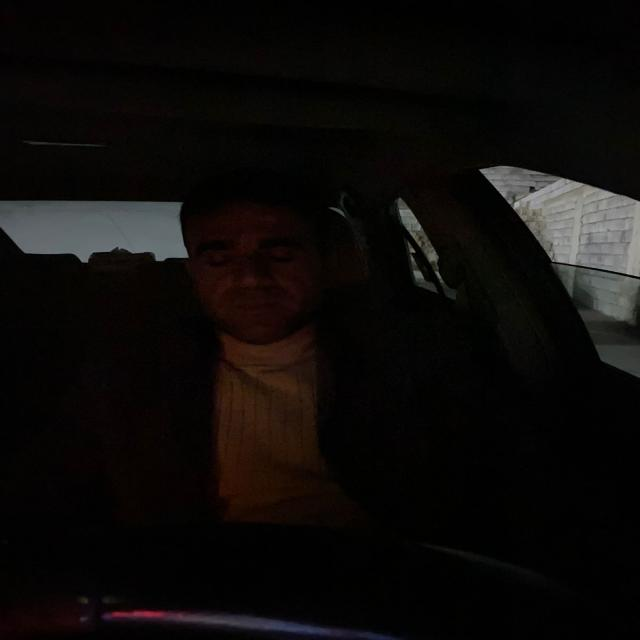drowsy: (167, 168, 343, 345)
